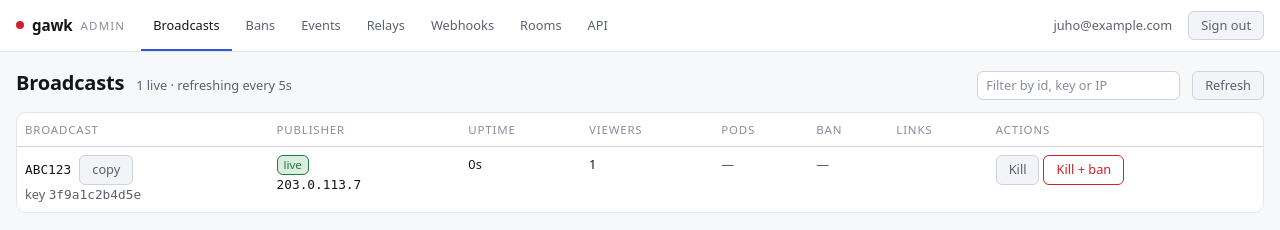
the shell › offers the Rooms link only when the probe reports the feature
Check: the heading "Broadcasts" is shown, box [16,68,124,98]
Click the link "Rooms": [541, 26] box [508,0,574,51]
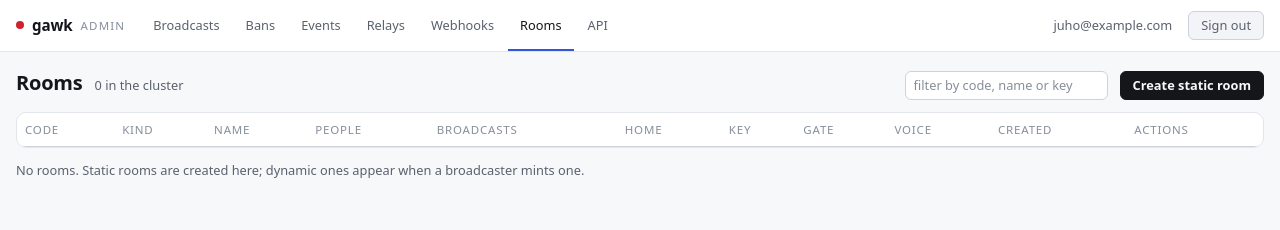
Check: the heading "Rooms" is shown, box [16,68,82,98]
